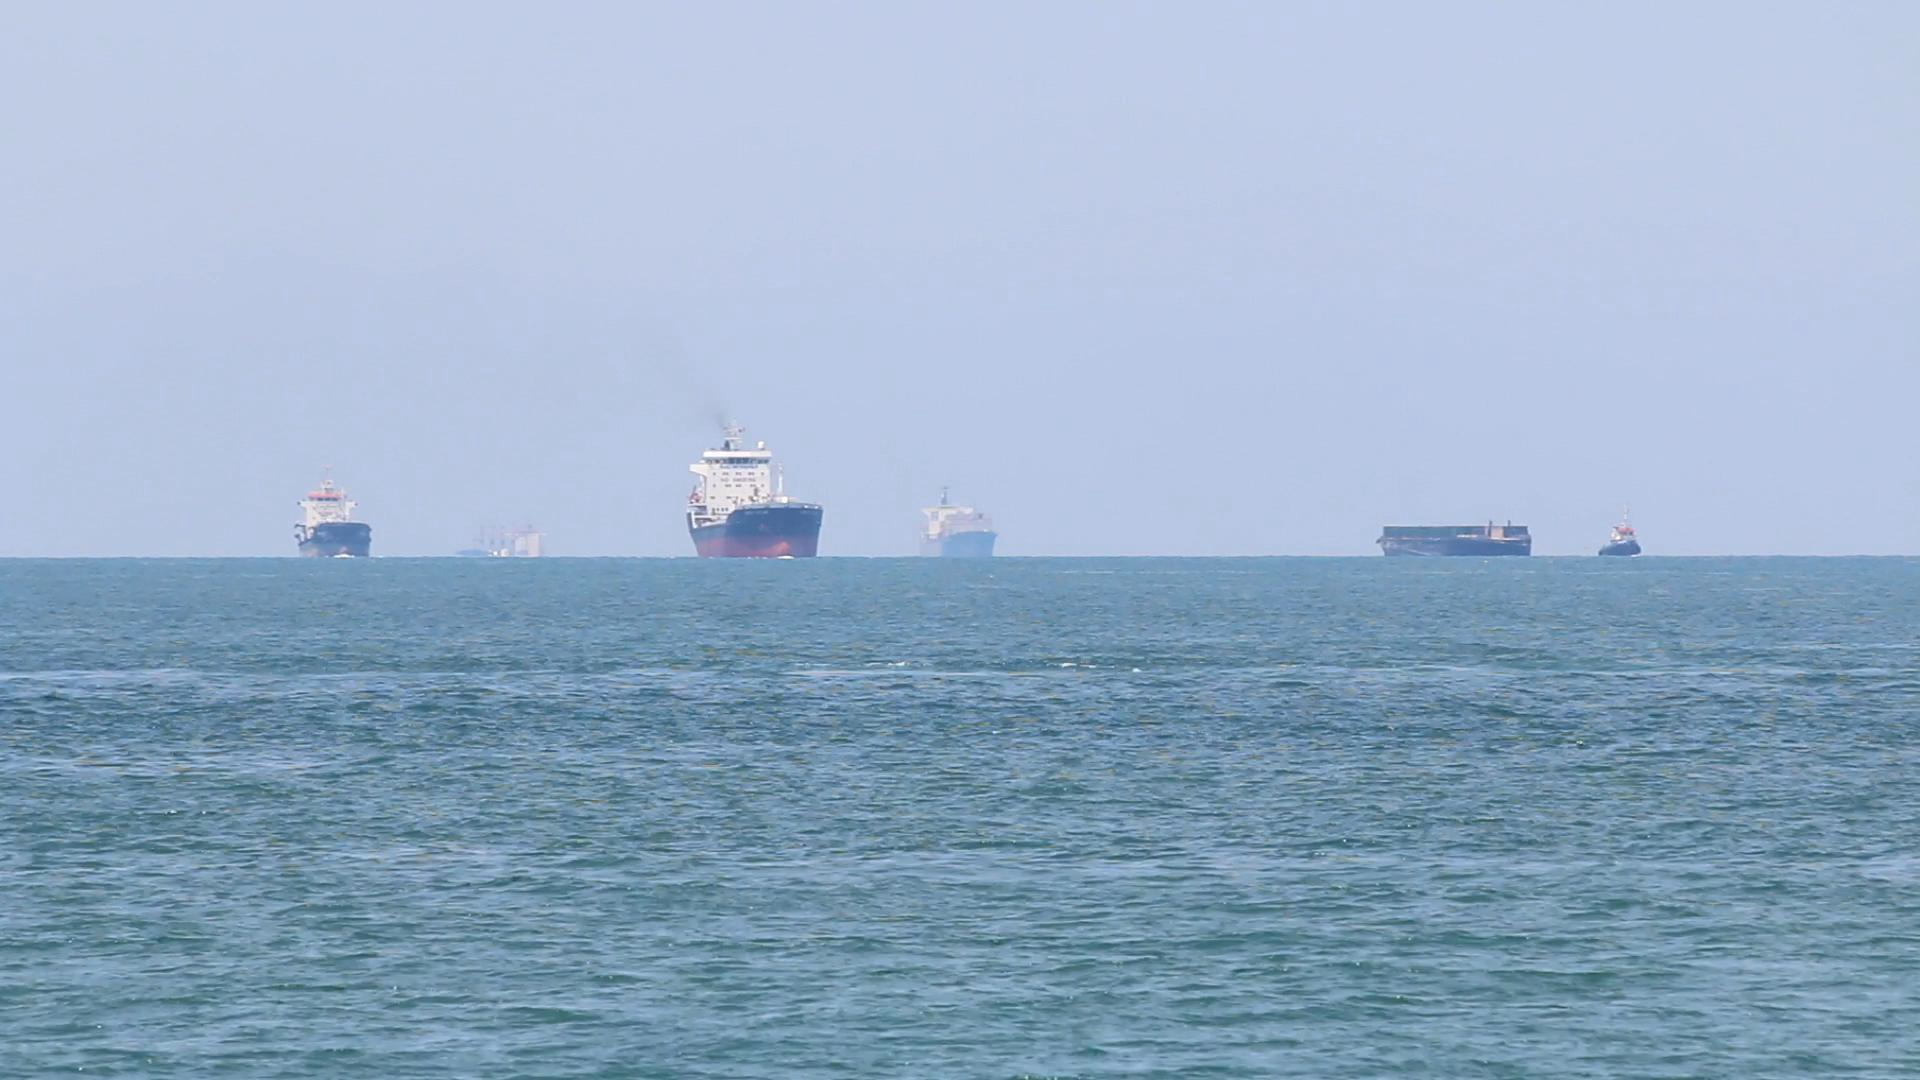Container Ship: (679, 414, 831, 568), (1370, 513, 1542, 568), (291, 464, 378, 571), (913, 480, 1009, 571), (1589, 520, 1654, 566)
